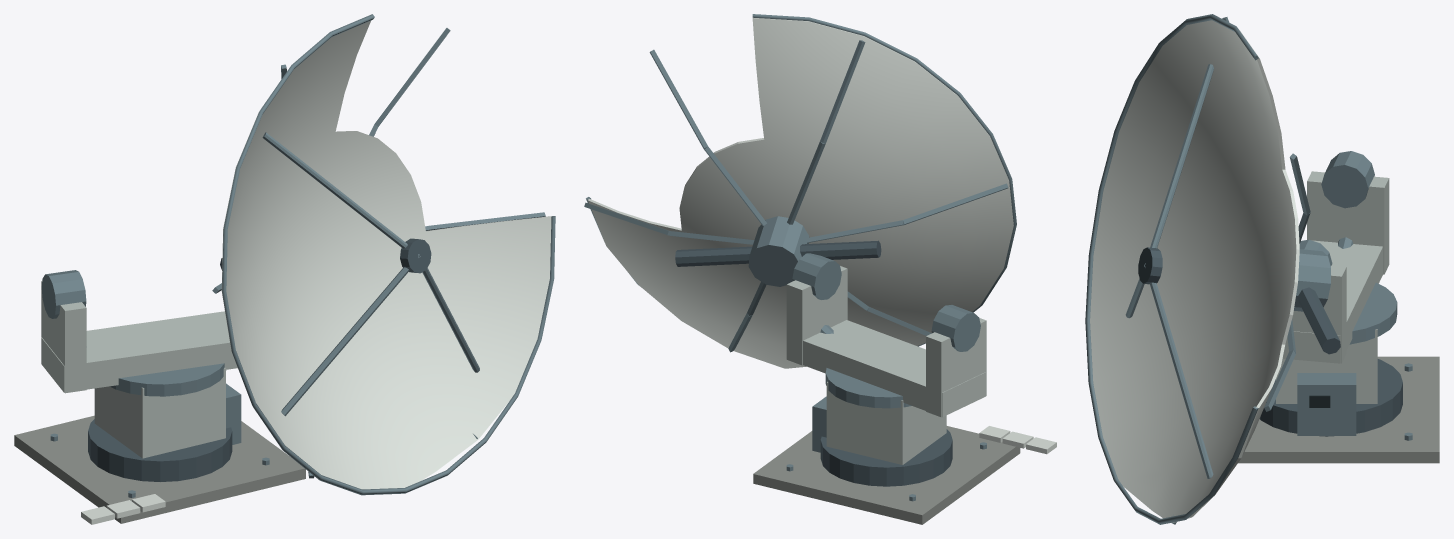
Rendered from skyward_low_d3.glb.
3 renders of one model, left to right at view 1: azimuth 30°, elevation 25°; view 2: azimuth 150°, elevation 25°; view 3: azimuth 270°, elevation 25°, orthographic. The views are drawn at different scales.
Visible parts, largest first — view 1: REFLECTOR_SURFACE.003, Geometry_AZIMUTH.003_Ceramic armor / limestone, Concrete octagonal pad.003, Geometry_ELEVATION.003_Structural frame / blue steel, Pedestal.003, Foundation bearing.003, Geometry_AZIMUTH.003_Structural frame / blue steel, Geometry_ROOT.003_Reflector / warm ceramic, Geometry_ROOT.003_Structural frame / blue steel, Geometry_ELEVATION.003_Edge metal / graphite; view 2: REFLECTOR_SURFACE.003, Geometry_AZIMUTH.003_Ceramic armor / limestone, Geometry_ELEVATION.003_Structural frame / blue steel, Concrete octagonal pad.003, Pedestal.003, Geometry_AZIMUTH.003_Structural frame / blue steel, Foundation bearing.003, Geometry_ELEVATION.003_Edge metal / graphite, Geometry_ROOT.003_Reflector / warm ceramic, Geometry_ROOT.003_Structural frame / blue steel; view 3: REFLECTOR_SURFACE.003, Geometry_ELEVATION.003_Structural frame / blue steel, Geometry_AZIMUTH.003_Ceramic armor / limestone, Concrete octagonal pad.003, Geometry_AZIMUTH.003_Structural frame / blue steel, Geometry_ROOT.003_Structural frame / blue steel, Pedestal.003, Foundation bearing.003, Geometry_ELEVATION.003_Edge metal / graphite.
Boxes of the visible parts, x1,y1,x2,y2 form: REFLECTOR_SURFACE.003: (221, 21, 551, 489); Geometry_AZIMUTH.003_Ceramic armor / limestone: (41, 281, 237, 393); Concrete octagonal pad.003: (14, 415, 305, 523); Geometry_ELEVATION.003_Structural frame / blue steel: (212, 14, 555, 495); Pedestal.003: (94, 367, 225, 458); Foundation bearing.003: (88, 419, 232, 481); Geometry_AZIMUTH.003_Structural frame / blue steel: (41, 270, 226, 396); Geometry_ROOT.003_Reflector / warm ceramic: (81, 494, 165, 524); Geometry_ROOT.003_Structural frame / blue steel: (50, 383, 269, 497); Geometry_ELEVATION.003_Edge metal / graphite: (220, 238, 431, 273); REFLECTOR_SURFACE.003: (587, 17, 1013, 368); Geometry_AZIMUTH.003_Ceramic armor / limestone: (786, 266, 986, 417); Geometry_ELEVATION.003_Structural frame / blue steel: (584, 14, 1016, 352); Concrete octagonal pad.003: (753, 426, 1020, 524); Pedestal.003: (826, 381, 946, 464); Geometry_AZIMUTH.003_Structural frame / blue steel: (792, 253, 980, 408); Foundation bearing.003: (820, 429, 952, 486); Geometry_ELEVATION.003_Edge metal / graphite: (675, 240, 881, 266); Geometry_ROOT.003_Reflector / warm ceramic: (979, 426, 1056, 454); Geometry_ROOT.003_Structural frame / blue steel: (786, 396, 986, 501); REFLECTOR_SURFACE.003: (1090, 20, 1299, 522); Geometry_ELEVATION.003_Structural frame / blue steel: (1085, 14, 1330, 524); Geometry_AZIMUTH.003_Ceramic armor / limestone: (1282, 171, 1389, 363); Concrete octagonal pad.003: (1238, 356, 1439, 463); Geometry_AZIMUTH.003_Structural frame / blue steel: (1299, 151, 1397, 344); Geometry_ROOT.003_Structural frame / blue steel: (1297, 363, 1412, 440); Pedestal.003: (1276, 329, 1377, 403); Foundation bearing.003: (1259, 359, 1402, 436); Geometry_ELEVATION.003_Edge metal / graphite: (1138, 247, 1340, 354).
Size of the model in its own units: 21.16 by 17.8 by 12.57.
